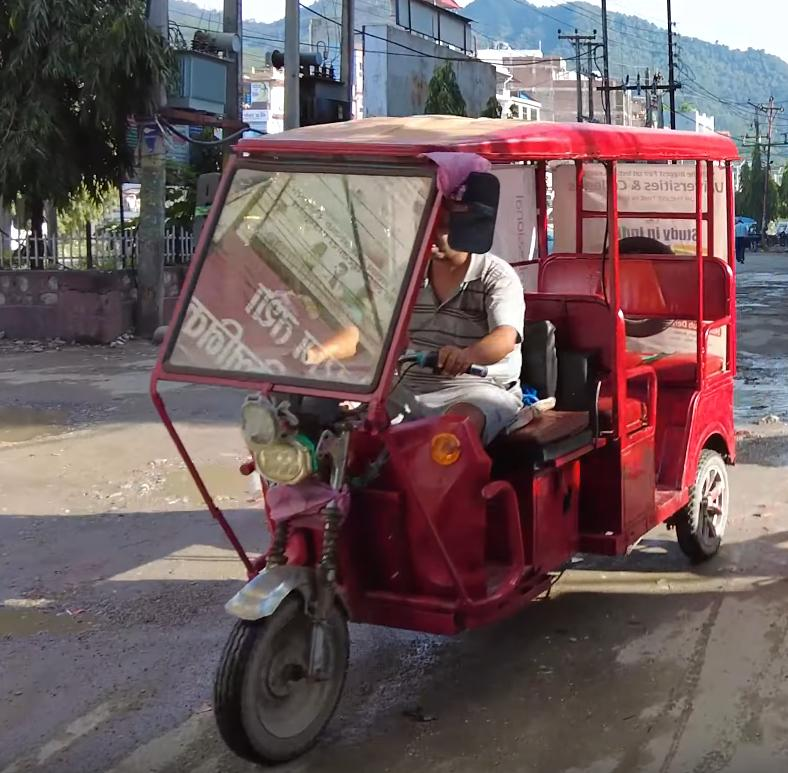e-rickshaw: (153, 104, 759, 773)
